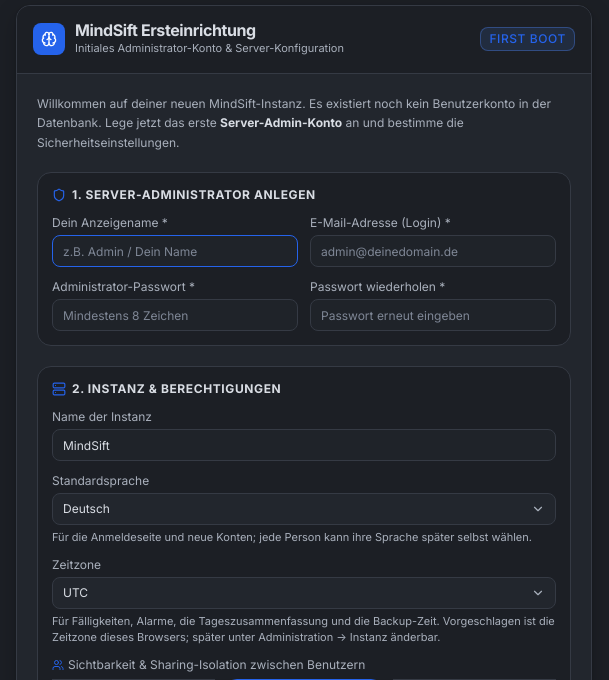
Test: SetupWizardView › with touch (the system time picker can be emptied) › refuses an empty backup time
In the field with placeholder "z.B. Admin / Dein Name": (175, 251) [52,235,298,267], type "Chef"
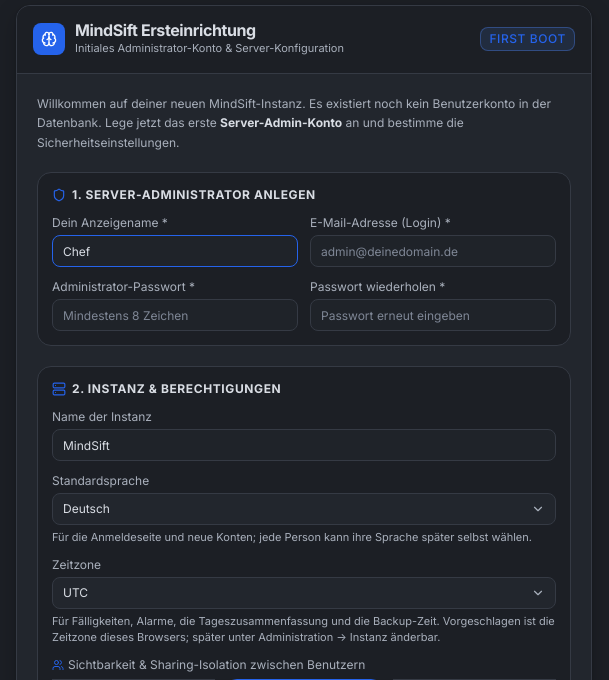
In the field with placeholder "admin@deinedomain.de": (433, 251) [310,235,556,267], type "chef@example.com"
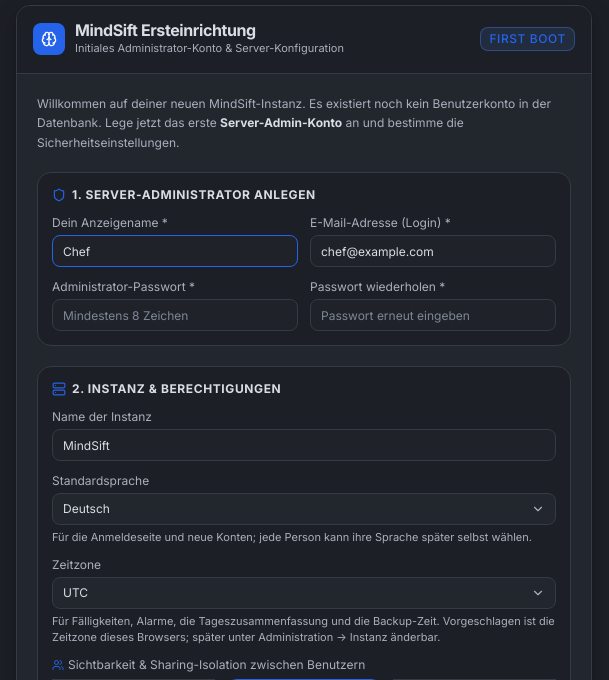
In the password field with placeholder "Passwort erneut eingeben": (433, 315) [310,299,556,331], type "geheim-genug"
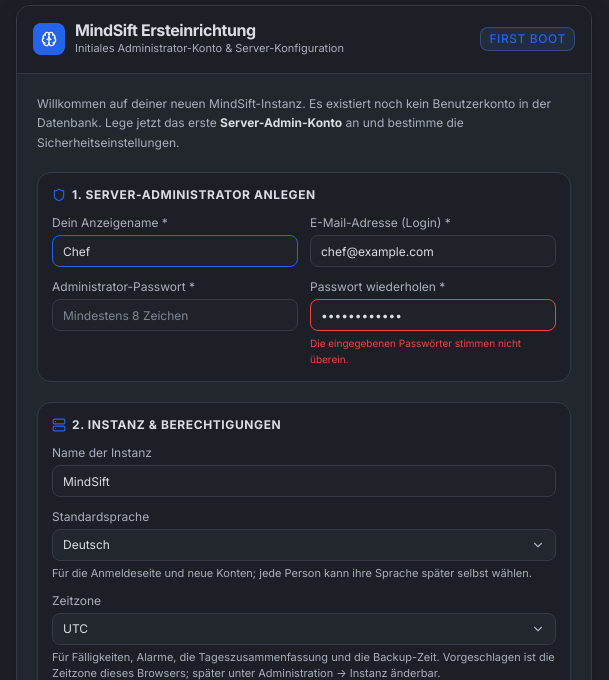
In the password field labelled "Administrator-Passwort *": (175, 315) [52,299,298,331], type "geheim-genug"
(page scrolled)
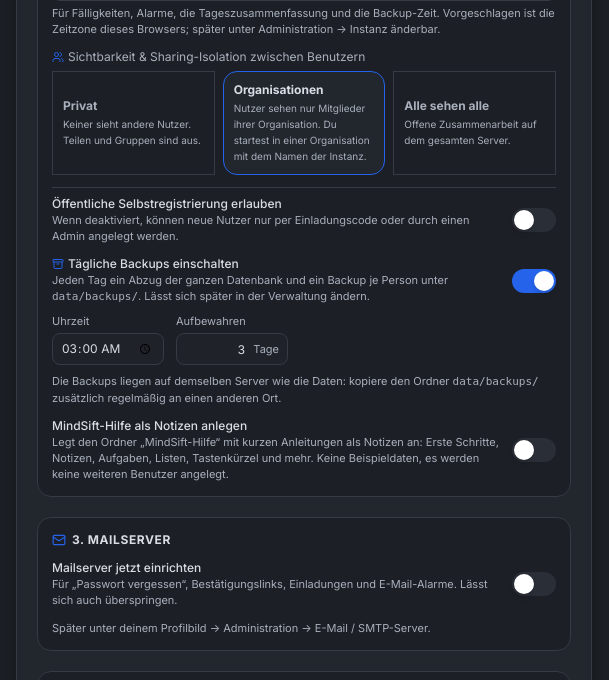
Clear the time field named "Uhrzeit": (108, 349) [52,333,164,365]
(page scrolled)
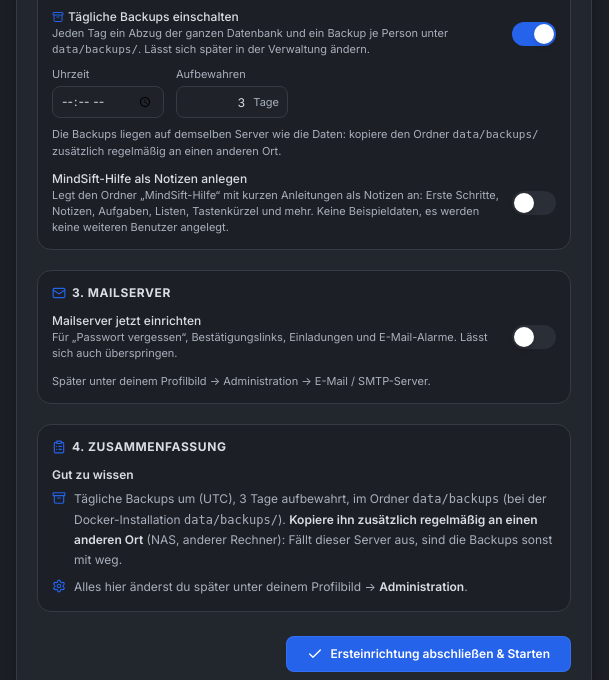
Click the button "Ersteinrichtung abschließen & Starten": (428, 654) [286,636,571,672]
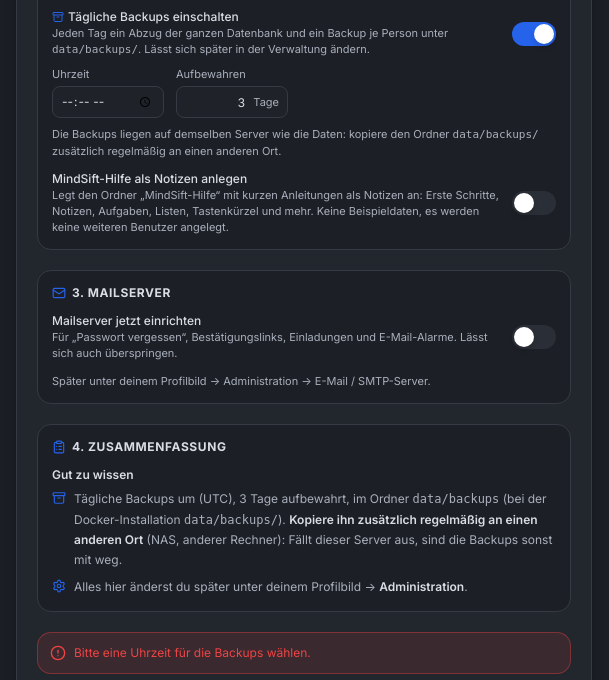
Now the text "Bitte eine Uhrzeit für die Backups wählen." is shown, box [74,644,311,660]
